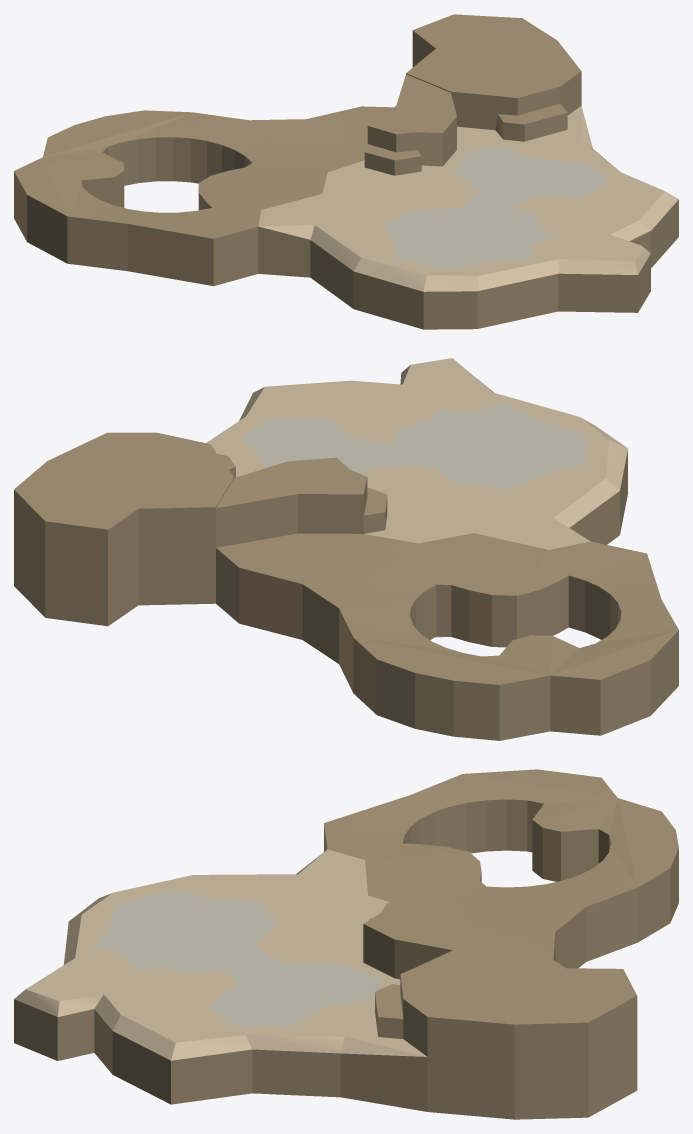
The model's file is DarkStoneFloorLargeFloatingIsland1.fbx.
3 renders of one model, top to bottom at view 1: azimuth 30°, elevation 25°; view 2: azimuth 150°, elevation 25°; view 3: azimuth 270°, elevation 25°, orthographic. The views are drawn at different scales.
Visible parts, largest first — view 1: DarkStoneFloorLargeFloatingIsland1; view 2: DarkStoneFloorLargeFloatingIsland1; view 3: DarkStoneFloorLargeFloatingIsland1.
Boxes of the visible parts, <box> form: DarkStoneFloorLargeFloatingIsland1: <box>14,14,678,329</box>; DarkStoneFloorLargeFloatingIsland1: <box>14,358,678,740</box>; DarkStoneFloorLargeFloatingIsland1: <box>14,769,678,1119</box>.
Size of the model in its own units: 6513 by 978 by 6199.
